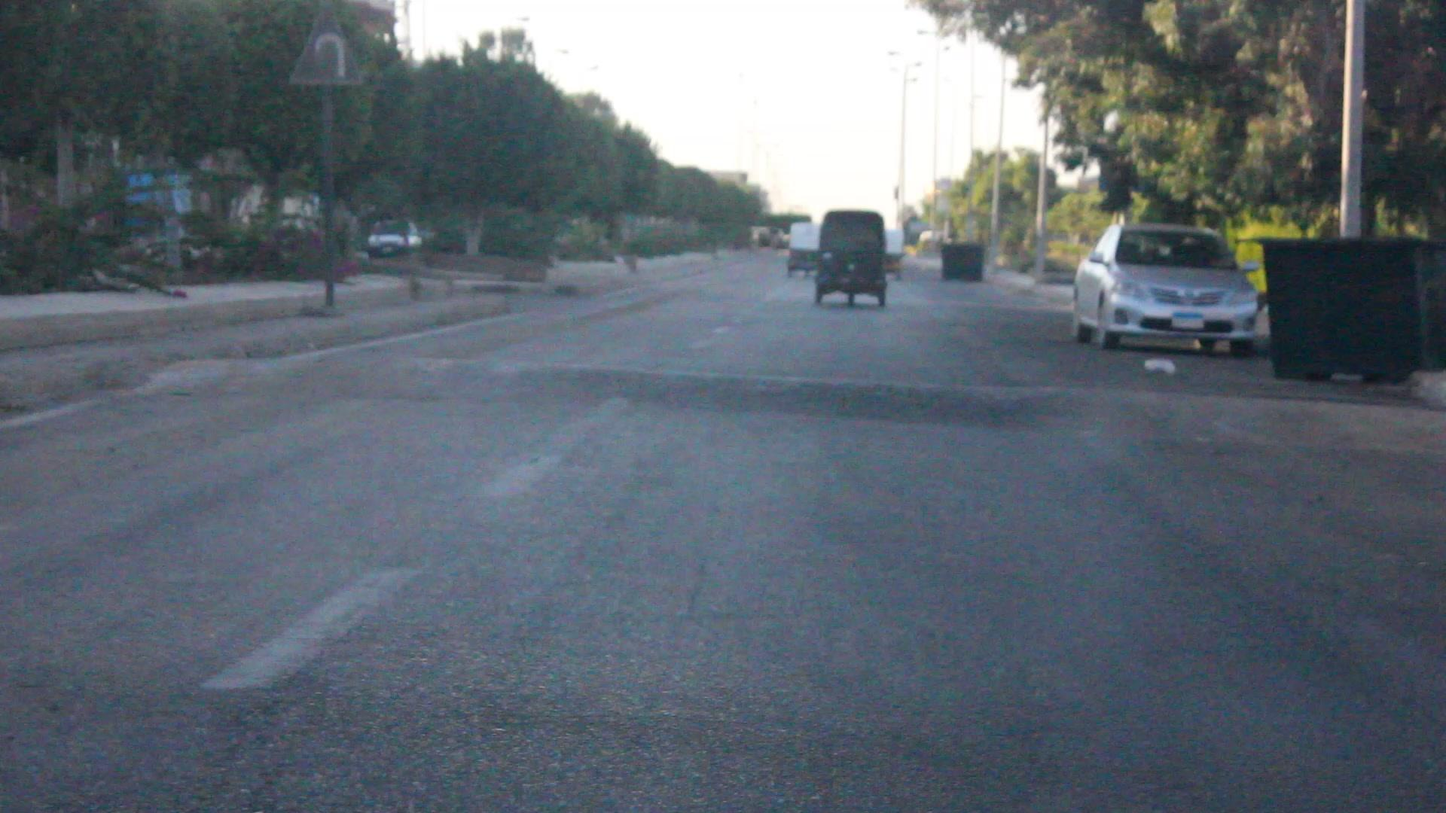Bump: (128, 354, 1445, 450)
